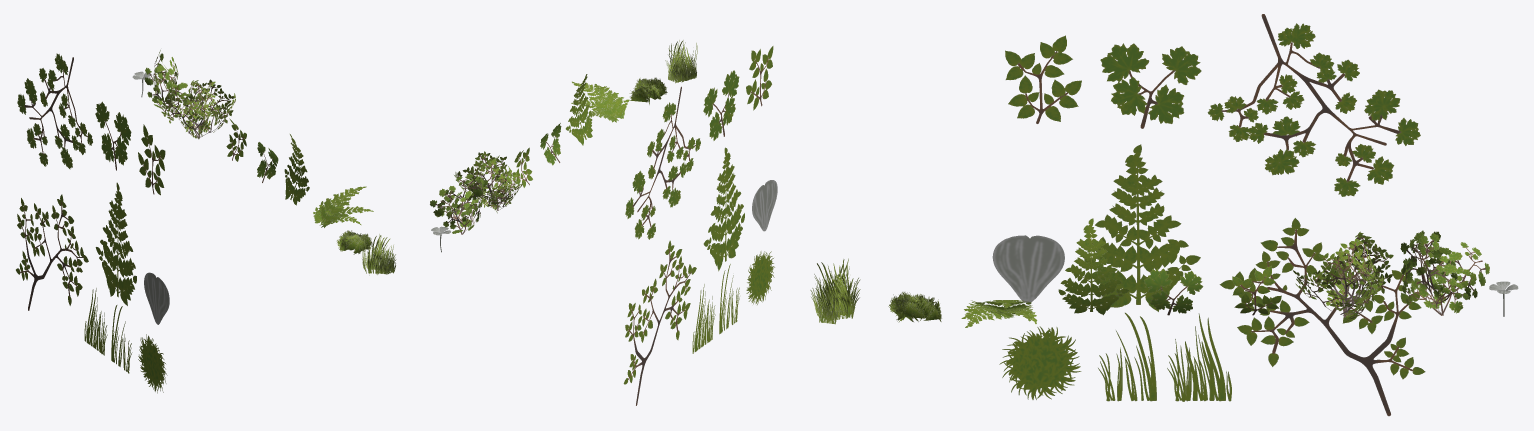
File: FOLIAGE.fbx
3 renders of one model, left to right at view 1: azimuth 30°, elevation 25°; view 2: azimuth 150°, elevation 25°; view 3: azimuth 270°, elevation 25°, orthographic. The views are drawn at different scales.
Visible parts, largest first — view 1: PLANE_LOW, branch_cluster_2, ferns, branch_cluster_1, grass_cluster_1, fern, moss_cluster, branch_2, branch_1; view 2: PLANE_LOW, branch_cluster_2, branch_cluster_1, ferns, grass_cluster_1, fern, moss_cluster, branch_2, branch_1; view 3: PLANE_LOW, branch_cluster_2, branch_cluster_1, fern, grass_cluster_1, branch_2, ferns, branch_1, moss_cluster.
Part boxes in pixels (left/top/right/bottom): PLANE_LOW: left=16, top=53, right=169, bottom=393; branch_cluster_2: left=159, top=79, right=235, bottom=139; ferns: left=313, top=186, right=373, bottom=227; branch_cluster_1: left=145, top=50, right=191, bottom=111; grass_cluster_1: left=362, top=234, right=396, bottom=275; fern: left=284, top=134, right=309, bottom=205; moss_cluster: left=336, top=230, right=371, bottom=254; branch_2: left=257, top=142, right=278, bottom=182; branch_1: left=226, top=118, right=246, bottom=161; PLANE_LOW: left=623, top=46, right=777, bottom=405; branch_cluster_2: left=454, top=151, right=522, bottom=213; branch_cluster_1: left=430, top=174, right=488, bottom=234; ferns: left=571, top=81, right=629, bottom=122; grass_cluster_1: left=665, top=40, right=697, bottom=83; fern: left=565, top=74, right=592, bottom=145; moss_cluster: left=629, top=77, right=667, bottom=104; branch_2: left=540, top=123, right=561, bottom=165; branch_1: left=512, top=147, right=532, bottom=187; PLANE_LOW: left=992, top=14, right=1425, bottom=416; branch_cluster_2: left=1293, top=231, right=1393, bottom=322; branch_cluster_1: left=1400, top=230, right=1489, bottom=315; fern: left=1058, top=218, right=1129, bottom=315; grass_cluster_1: left=810, top=258, right=860, bottom=324; branch_2: left=1144, top=268, right=1203, bottom=315; ferns: left=961, top=300, right=1037, bottom=327; branch_1: left=1232, top=265, right=1281, bottom=315; moss_cluster: left=888, top=292, right=941, bottom=322.
Size of the model in its own units: 356 by 479 by 766.
